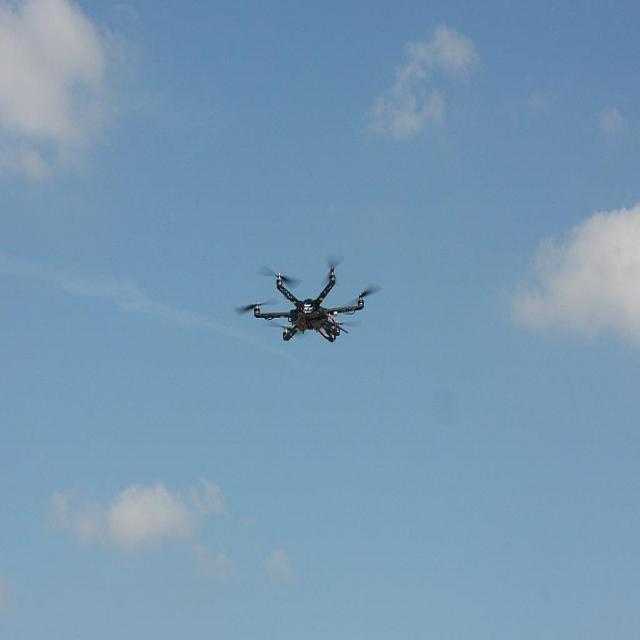UAV: (251, 261, 366, 351)
